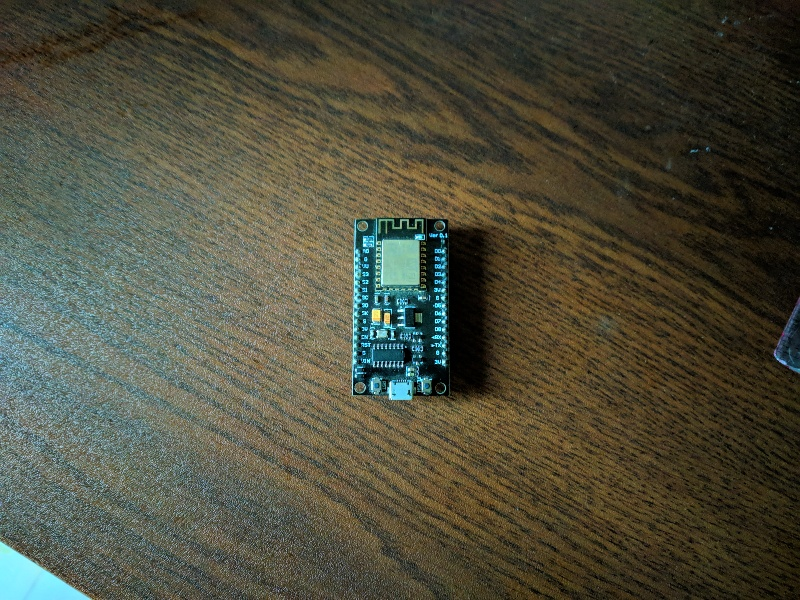NodeMCU: (342, 208, 457, 407)
